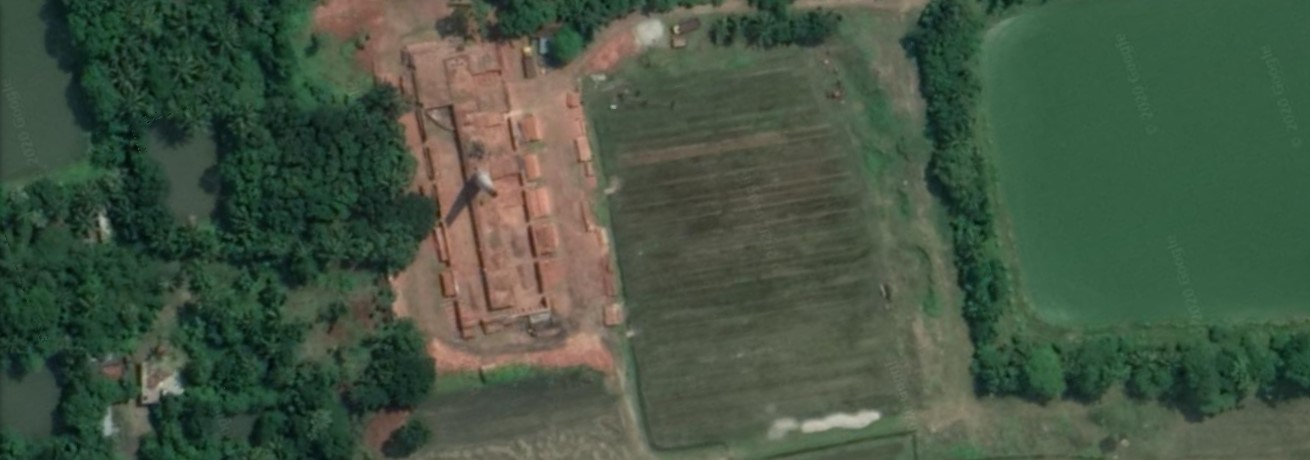kiln: (431, 78, 595, 333)
